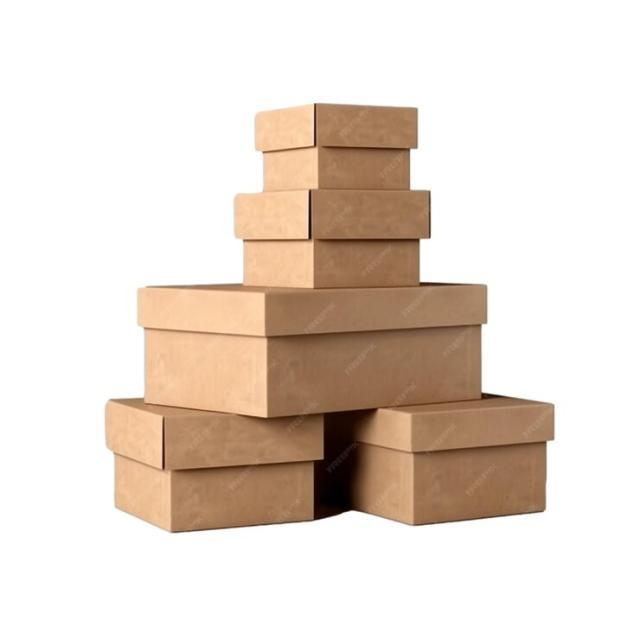BoxFace: (266, 286, 488, 418), (166, 413, 324, 533), (412, 403, 556, 526), (310, 188, 432, 290), (316, 104, 418, 190)
